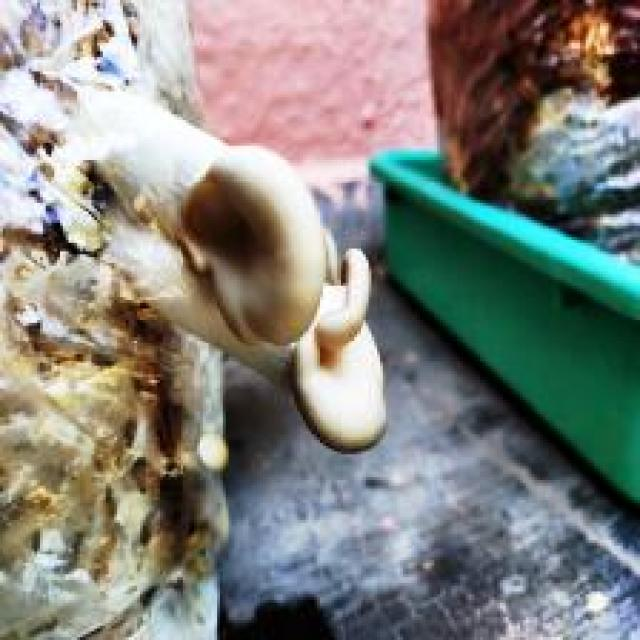chanterelle: (0, 0, 386, 637)
